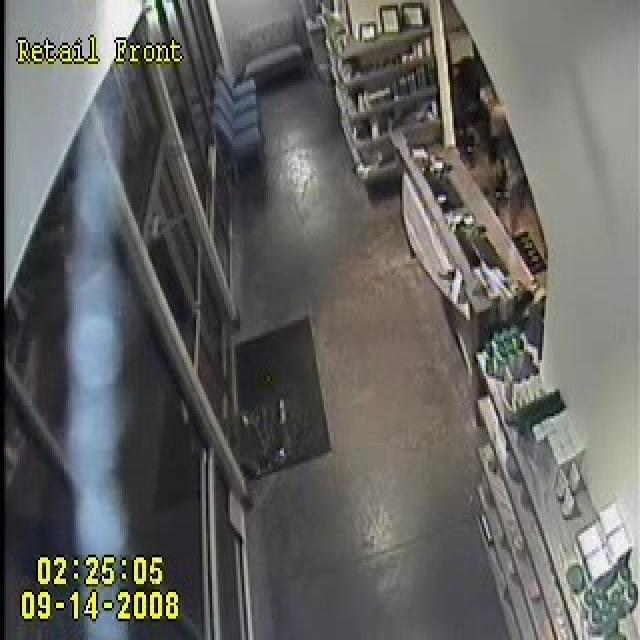thief: (467, 105, 534, 222)
